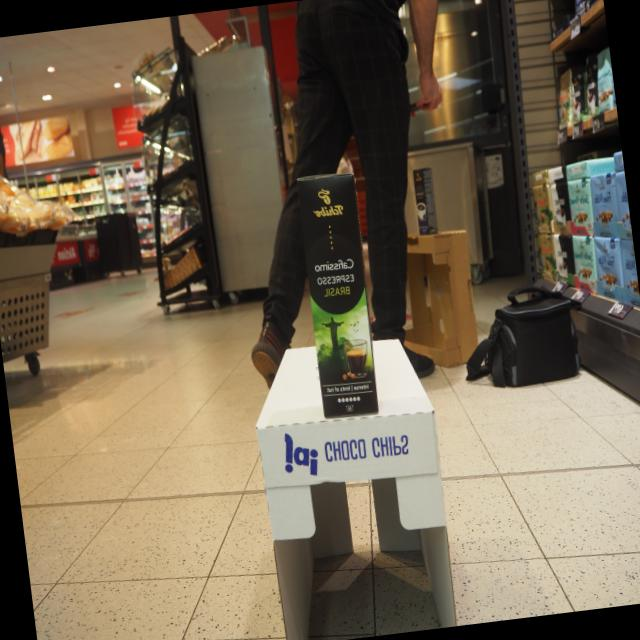Simo Es Brazil: (294, 169, 381, 420)
